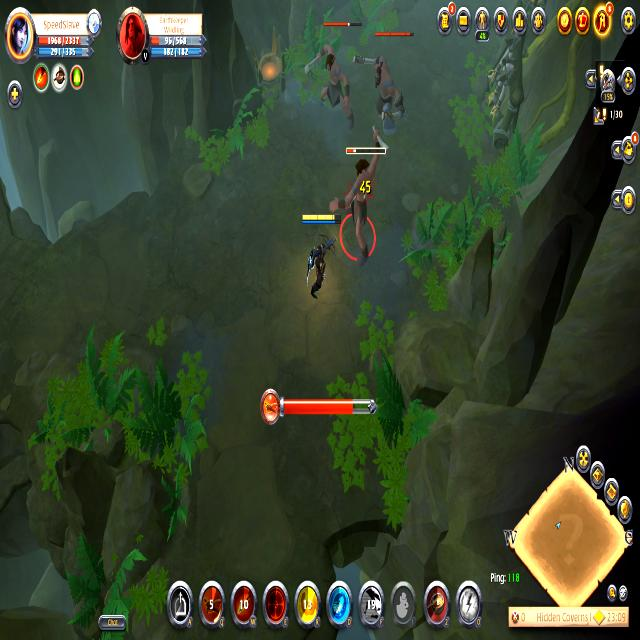ore: (297, 13, 366, 130), (332, 132, 390, 269), (365, 25, 412, 141)
red: (299, 210, 340, 306)
